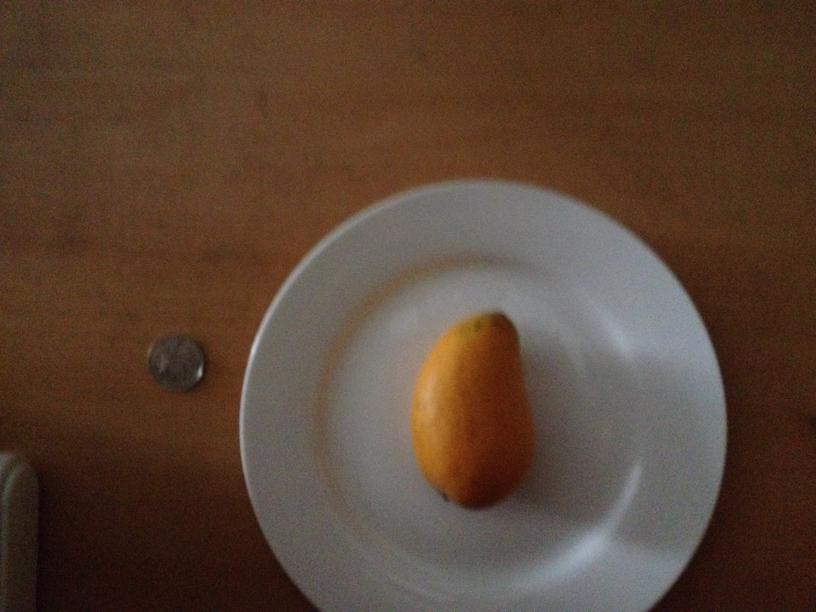coin: (146, 332, 204, 391)
mango: (407, 312, 533, 508)
